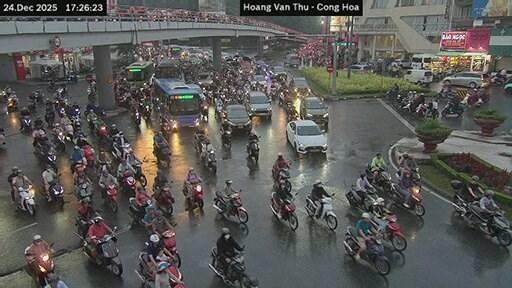motorbike: (451, 180, 511, 246), (208, 247, 250, 286), (96, 226, 121, 274), (25, 246, 54, 286), (389, 183, 423, 216), (213, 190, 248, 221), (269, 192, 297, 229), (361, 238, 389, 274), (380, 216, 406, 250), (345, 184, 377, 210), (364, 163, 390, 192), (317, 193, 336, 229), (75, 233, 96, 262), (135, 253, 153, 286), (128, 197, 150, 224), (162, 229, 179, 262), (154, 185, 172, 215), (35, 147, 57, 171), (182, 181, 202, 207), (18, 184, 34, 215), (342, 225, 358, 256), (272, 166, 290, 190), (48, 180, 63, 207), (74, 180, 92, 201), (441, 99, 463, 116), (131, 162, 146, 185), (154, 144, 170, 165), (112, 143, 130, 160), (202, 149, 214, 174), (246, 138, 259, 161), (304, 193, 316, 216), (105, 184, 115, 211), (80, 144, 92, 166), (83, 104, 105, 116), (166, 262, 181, 279), (122, 172, 133, 194), (19, 115, 31, 131), (61, 124, 73, 140), (98, 125, 108, 144), (54, 130, 63, 151), (31, 89, 44, 103), (489, 73, 505, 84), (44, 109, 54, 126), (409, 167, 419, 184), (160, 121, 170, 138), (26, 94, 35, 112), (221, 130, 230, 148), (131, 109, 140, 126), (70, 115, 80, 130), (169, 277, 183, 287), (141, 103, 150, 118), (6, 98, 16, 110), (201, 103, 207, 121), (0, 127, 5, 145), (66, 72, 76, 81), (394, 169, 402, 178), (371, 219, 377, 229), (50, 243, 51, 246)
